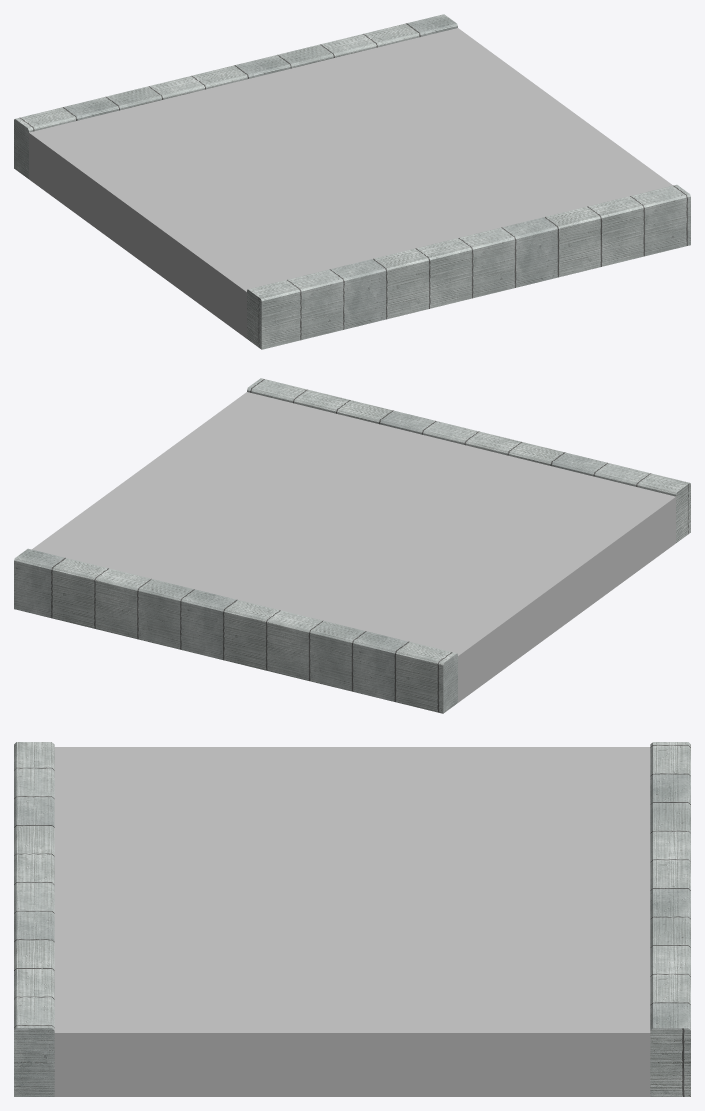
Rendered from AlleywayFloorA.fbx.
The picture shows the model from 3 angles, top to bottom: view 1: azimuth 30°, elevation 25°; view 2: azimuth 150°, elevation 25°; view 3: azimuth 270°, elevation 25°; orthographic projection. The views are drawn at different scales.
Parts seen in each view (by area): view 1: AlleywayFloorA; view 2: AlleywayFloorA; view 3: AlleywayFloorA.
Part boxes in pixels (left/top/right/bottom): AlleywayFloorA: left=14, top=14, right=690, bottom=349; AlleywayFloorA: left=14, top=378, right=690, bottom=713; AlleywayFloorA: left=14, top=742, right=690, bottom=1096.
Bounding box in the file's own units: 2500 × 280 × 2500.
